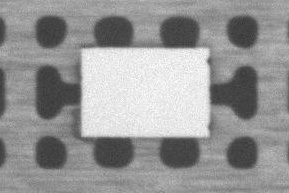DIE_BROKEN: (206, 54, 212, 66)
